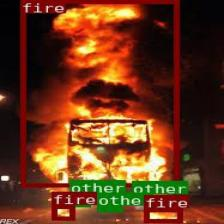fire: (20, 0, 178, 187), (144, 208, 182, 222), (51, 205, 74, 219)
